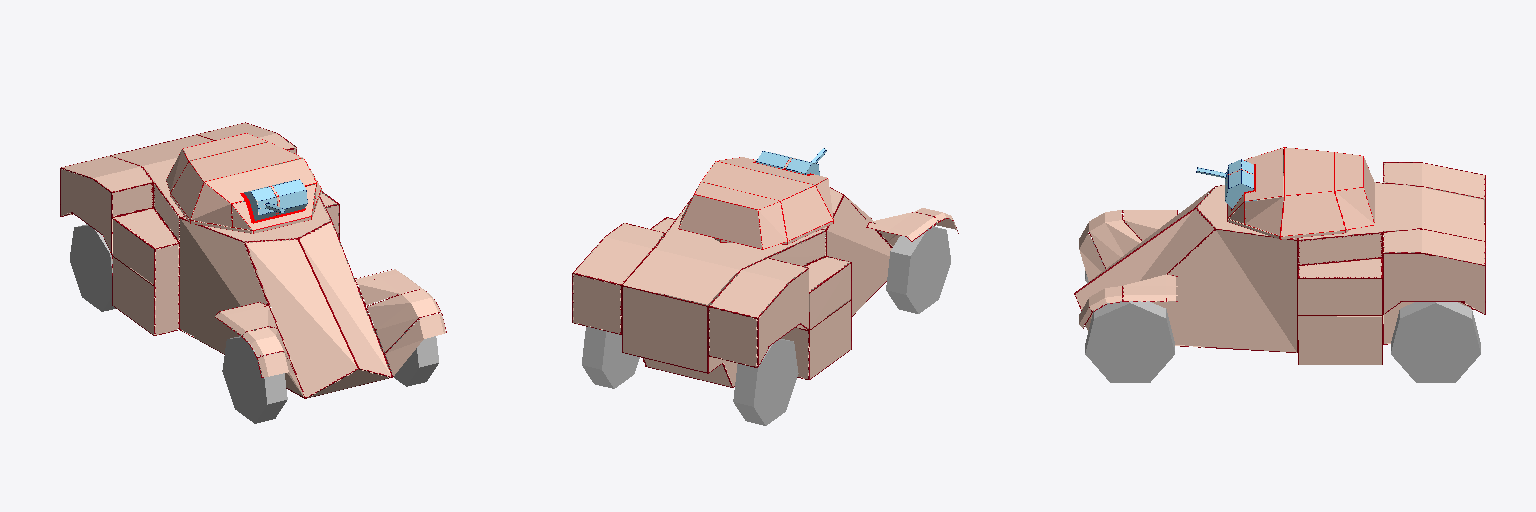
3 views of the same model, side by side, from view 1: azimuth 30°, elevation 25°; view 2: azimuth 150°, elevation 25°; view 3: azimuth 270°, elevation 25° (orthographic).
Parts seen in each view (by area): view 1: body_Cube, turret_Cube.013, wheel-F-R_Circle.003, wheel_back_Circle.002, mantlet_left_Circle.008, wheel-F-L.001_Circle.010; view 2: body_Cube, turret_Cube.013, wheel-F-R_Circle.003, wheel_back_Circle.002, wheel_back.001_Circle.011, mantlet_left_Circle.008; view 3: body_Cube, turret_Cube.013, wheel_back.001_Circle.011, wheel-F-L.001_Circle.010, mantlet_left_Circle.008.
Part boxes in pixels (bbox=[...]): body_Cube: bbox=[60, 122, 446, 398]; turret_Cube.013: bbox=[166, 133, 321, 233]; wheel-F-R_Circle.003: bbox=[222, 336, 287, 423]; wheel_back_Circle.002: bbox=[70, 224, 115, 311]; mantlet_left_Circle.008: bbox=[243, 179, 307, 220]; wheel-F-L.001_Circle.010: bbox=[376, 315, 438, 386]; body_Cube: bbox=[572, 187, 958, 387]; turret_Cube.013: bbox=[678, 157, 833, 249]; wheel-F-R_Circle.003: bbox=[886, 226, 950, 313]; wheel_back_Circle.002: bbox=[733, 339, 798, 425]; wheel_back.001_Circle.011: bbox=[582, 327, 639, 388]; mantlet_left_Circle.008: bbox=[755, 148, 826, 190]; body_Cube: bbox=[1074, 162, 1485, 364]; turret_Cube.013: bbox=[1225, 147, 1374, 239]; wheel_back.001_Circle.011: bbox=[1391, 302, 1480, 382]; wheel-F-L.001_Circle.010: bbox=[1085, 299, 1174, 382]; mantlet_left_Circle.008: bbox=[1196, 159, 1256, 209].
Bounding box in the file's own units: 1.9 × 1.66 × 3.66.
4 materials, 3 textured.